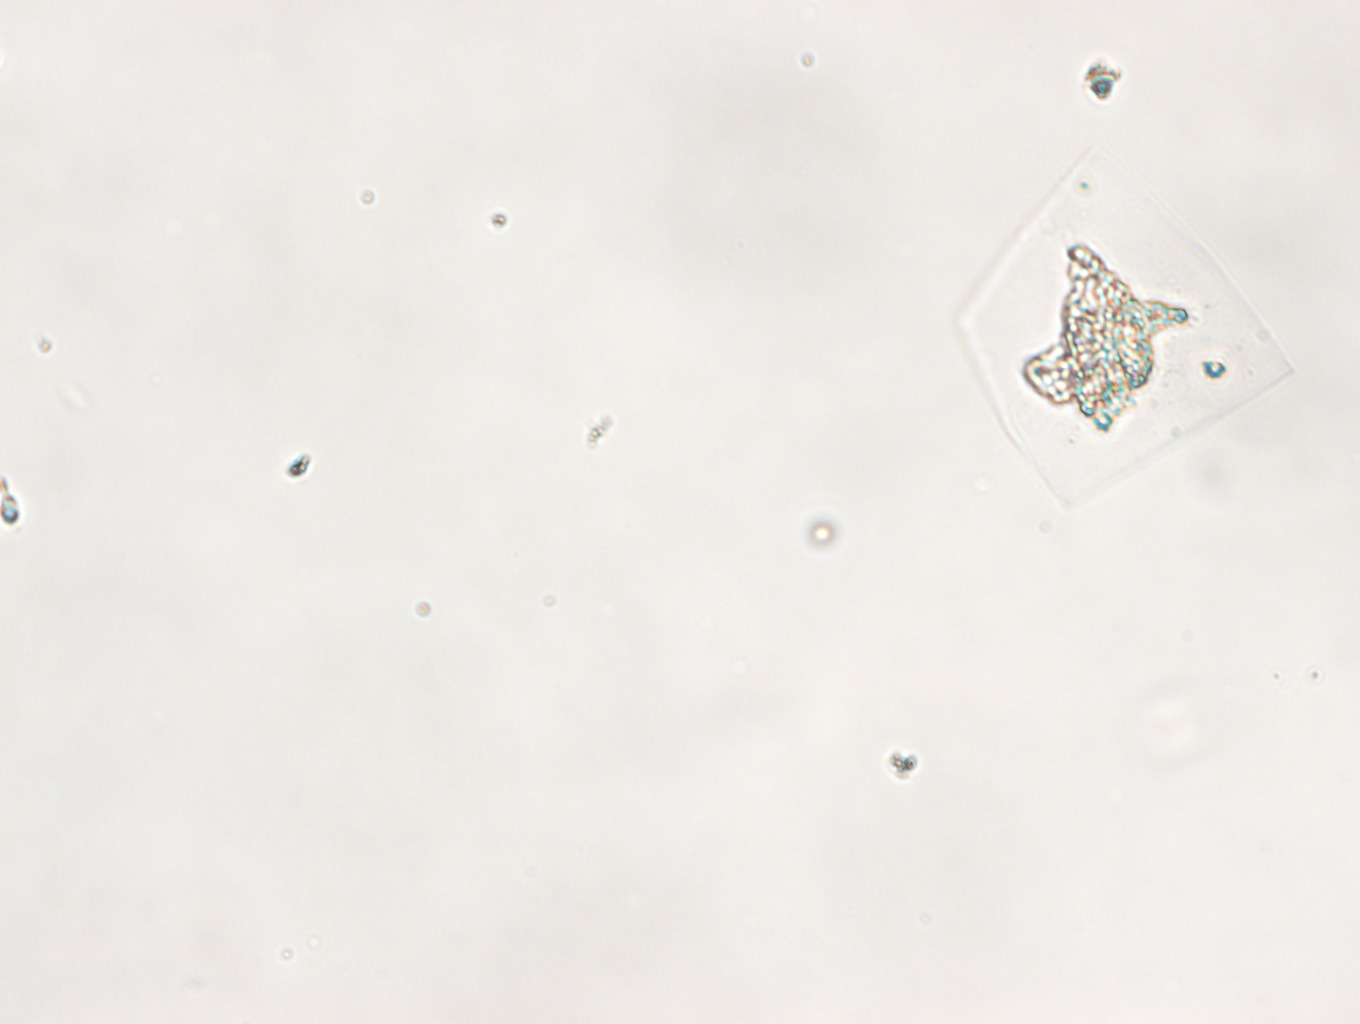helicotheca: (954, 144, 1297, 510)
